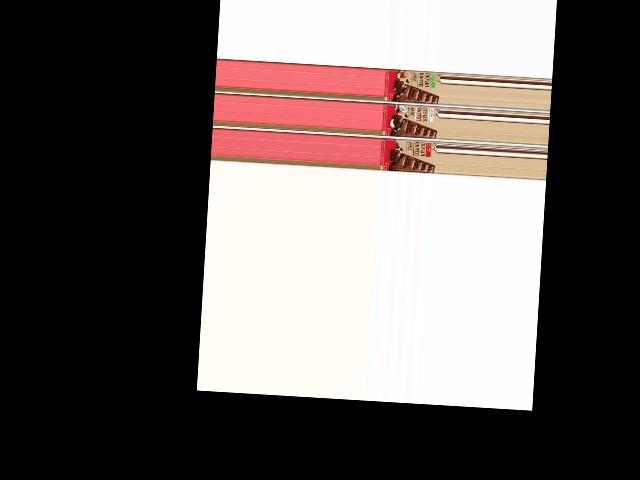chocolate: (383, 67, 441, 103)
